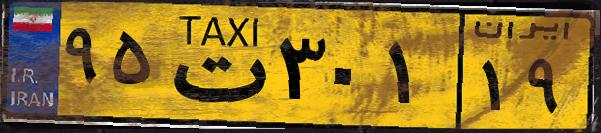0: (330, 28, 385, 110)
1: (385, 28, 445, 110), (475, 38, 525, 113)
3: (270, 28, 330, 110)
5: (110, 28, 158, 98)
9: (57, 26, 110, 100), (525, 38, 570, 115)
ت: (158, 12, 270, 120)
